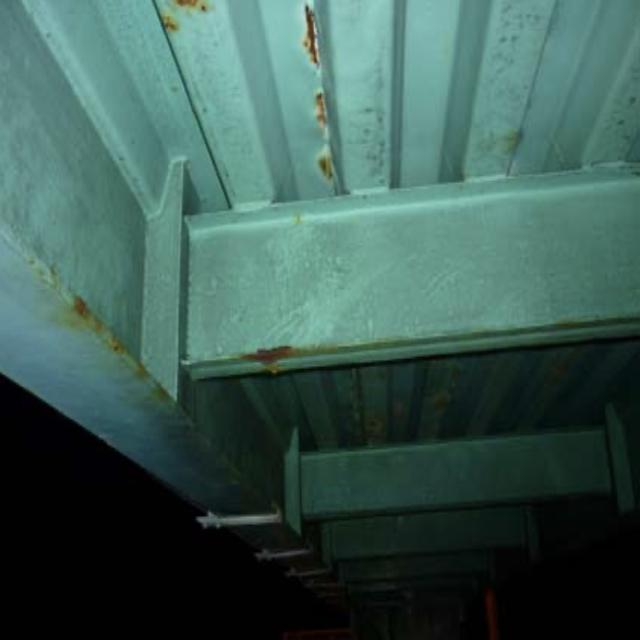corrosion: (61, 288, 310, 403), (293, 20, 357, 186)
